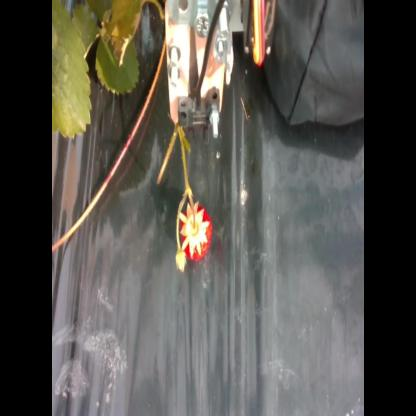ripe: (173, 194, 215, 269)
